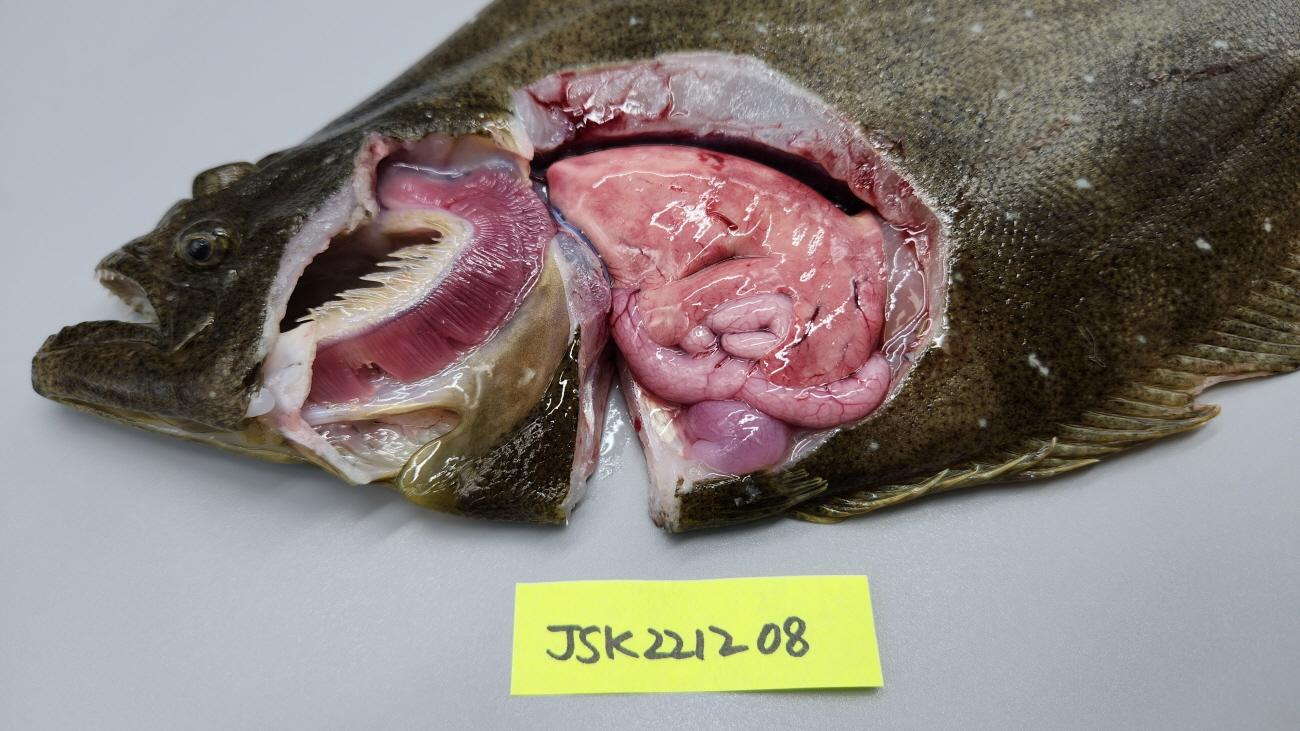VILIC: (835, 358, 857, 378)
